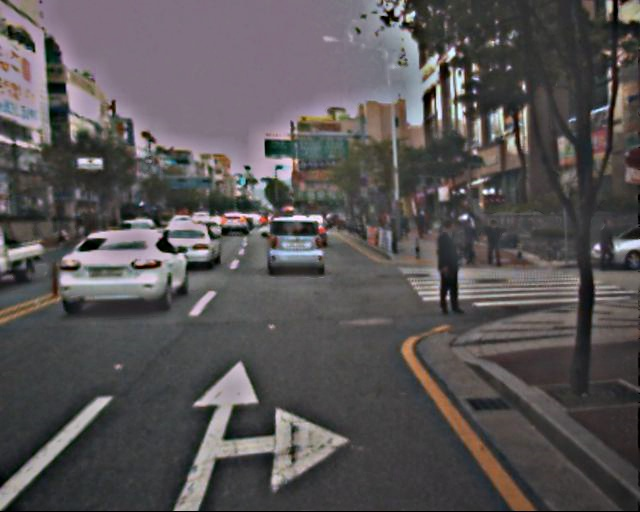person: (428, 217, 469, 316), (455, 211, 477, 265), (483, 216, 504, 267), (595, 218, 615, 267)
